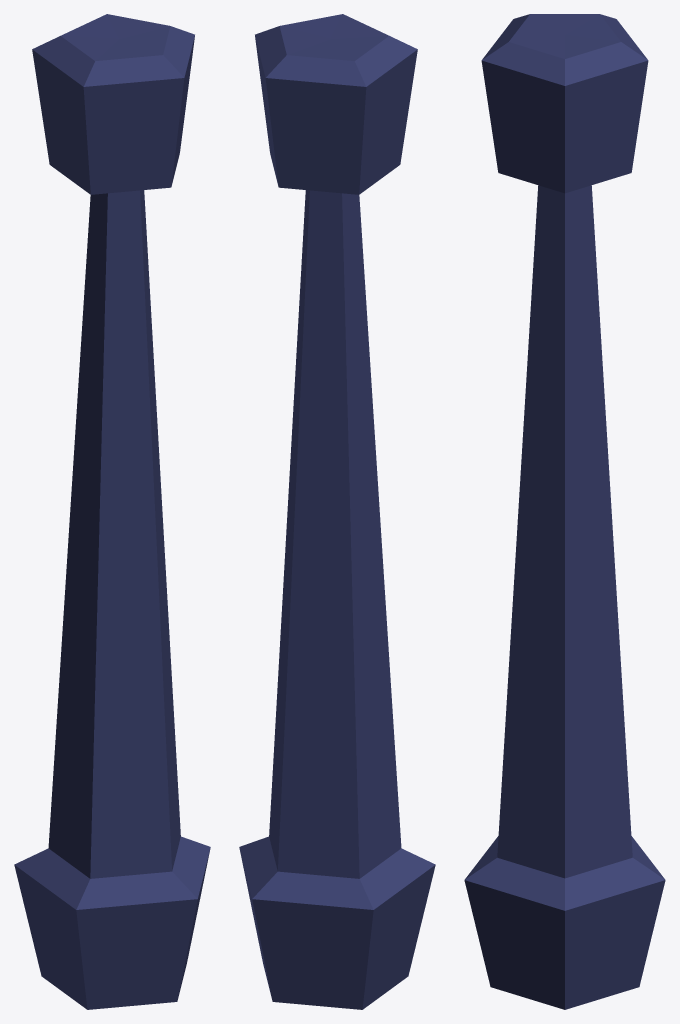
File: SoundEmitter_NoButtonPart.FBX
3 renders of one model, left to right at view 1: azimuth 30°, elevation 25°; view 2: azimuth 150°, elevation 25°; view 3: azimuth 270°, elevation 25°, orthographic.
Parts seen in each view (by area): view 1: Object043; view 2: Object043; view 3: Object043.
Part boxes in pixels (x1=…): Object043: x1=14, y1=14, x2=210, y2=1009; Object043: x1=239, y1=14, x2=435, y2=1009; Object043: x1=464, y1=14, x2=665, y2=1009.
Size of the model in its own units: 5.99 by 32.57 by 6.3.
